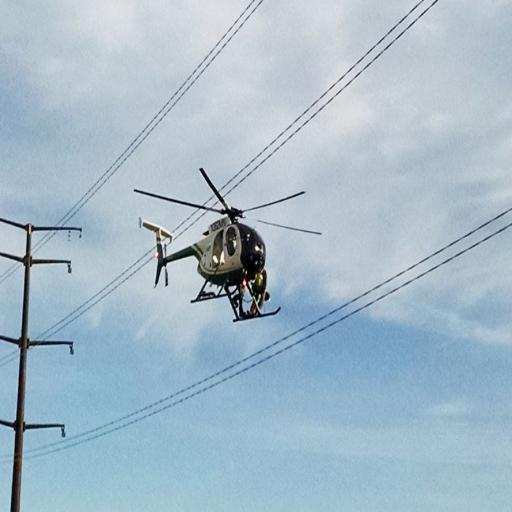helicopter: (129, 167, 322, 325)
